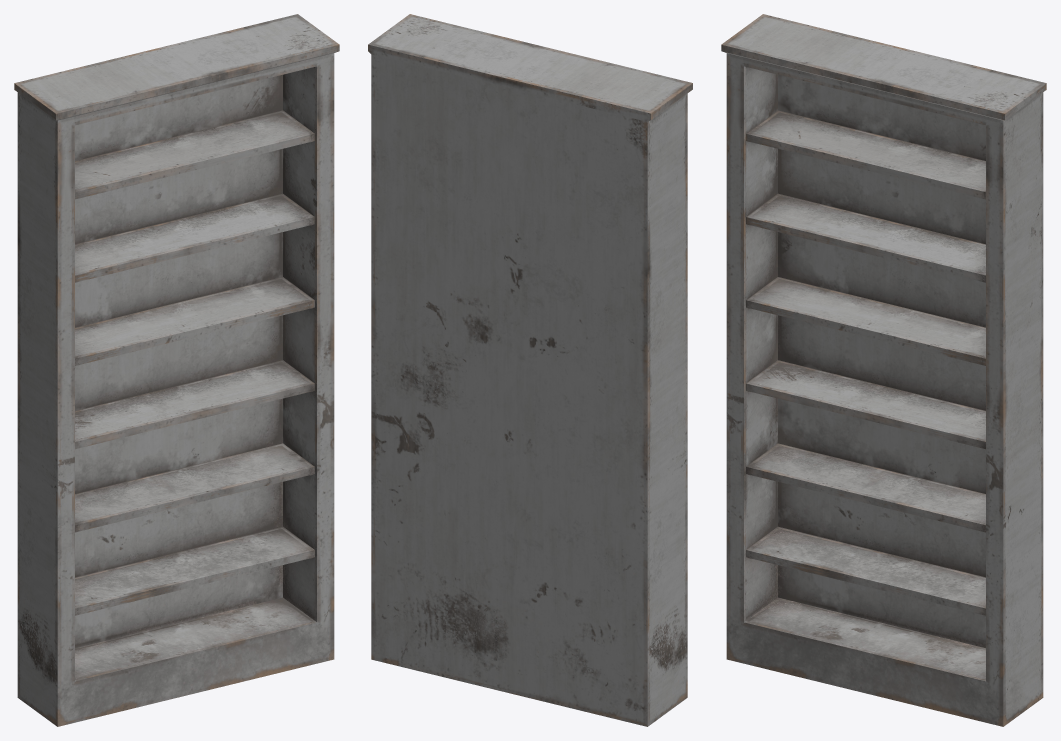
Rendered from Shelf_01_4k.gltf.
The picture shows the model from 3 angles, left to right: view 1: azimuth 30°, elevation 25°; view 2: azimuth 150°, elevation 25°; view 3: azimuth 330°, elevation 25°; orthographic projection.
Visible parts, largest first — view 1: Shelf_01; view 2: Shelf_01; view 3: Shelf_01.
Part boxes in pixels (x1,y1,x2,y2): Shelf_01: (14, 14, 339, 726); Shelf_01: (368, 14, 692, 726); Shelf_01: (721, 14, 1046, 726).
Size of the model in its own units: 1 by 2.08 by 0.257.
Materials: 1 (1 with a texture image).
